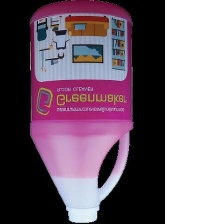cleaning_solution: (27, 0, 135, 224)
